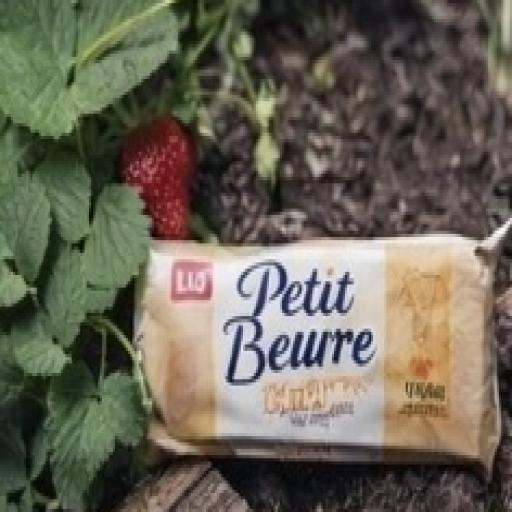petit_beurre: (87, 174, 512, 512)
